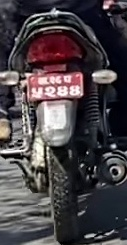license_plate: (26, 72, 84, 101)
